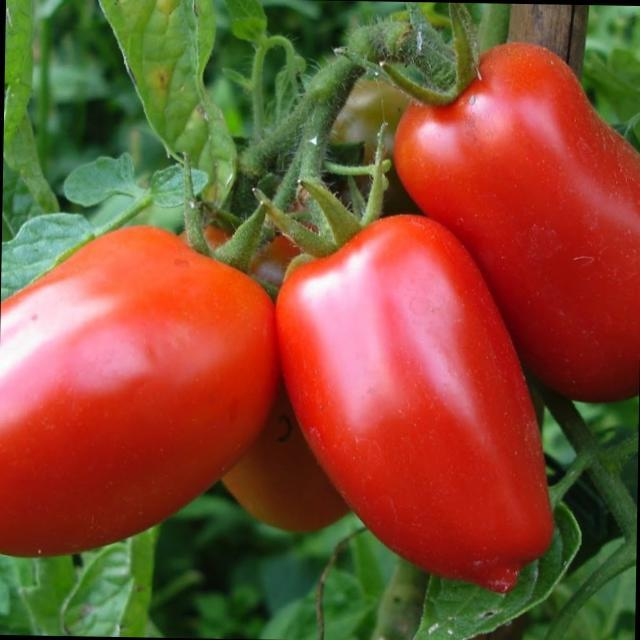TOMATO: (268, 210, 556, 584), (0, 221, 283, 559), (391, 41, 640, 400)
